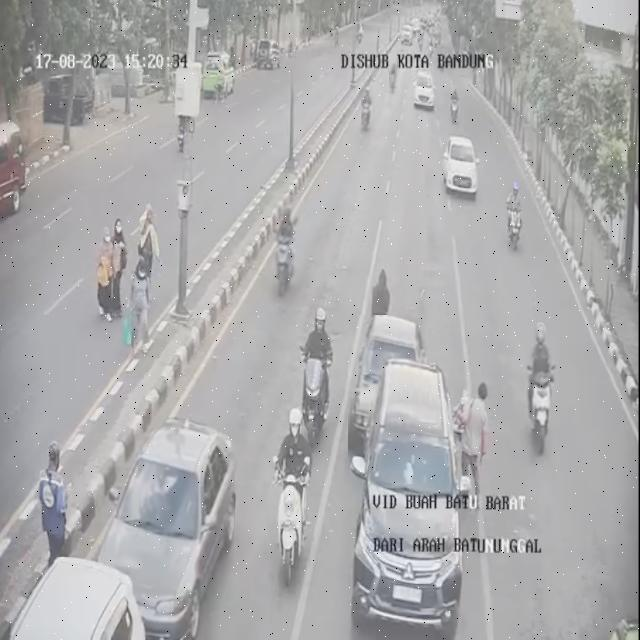motorcycle: (351, 361, 478, 637), (99, 420, 234, 638), (9, 558, 145, 639), (349, 316, 425, 454), (268, 411, 320, 581), (292, 304, 338, 448), (521, 323, 565, 456), (273, 195, 300, 307), (443, 135, 480, 197), (505, 174, 528, 257), (414, 68, 435, 107), (361, 82, 374, 135), (448, 87, 462, 125), (389, 59, 399, 98)
